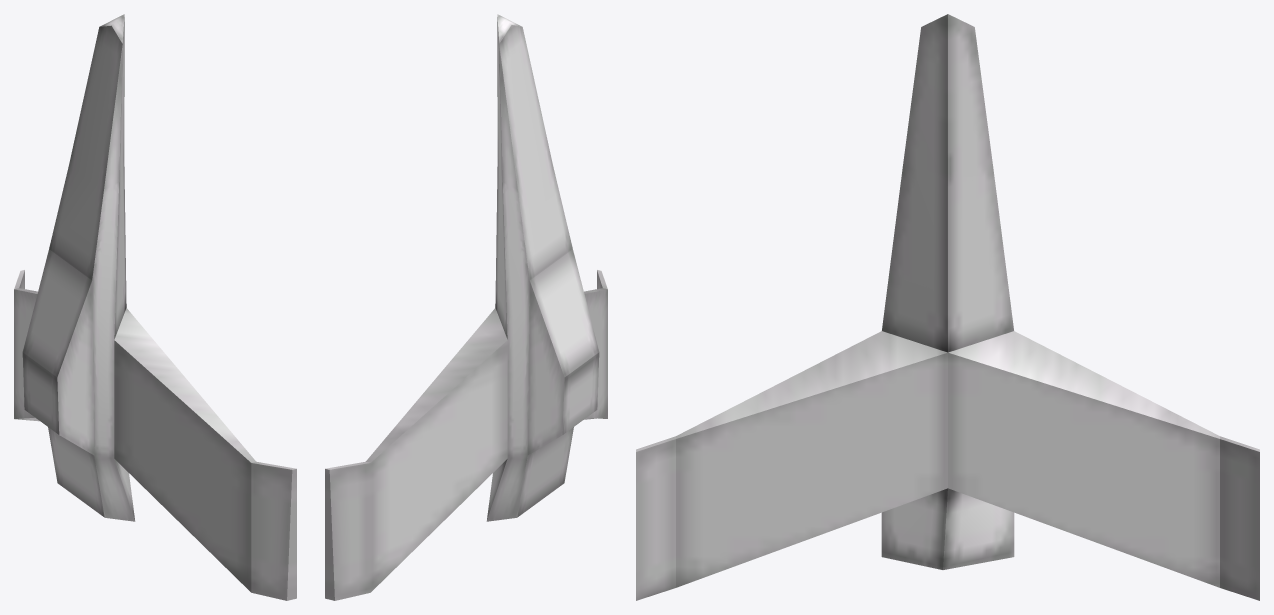
The model's file is ui_ship.fbx.
The picture shows the model from 3 angles, left to right: view 1: azimuth 30°, elevation 25°; view 2: azimuth 150°, elevation 25°; view 3: azimuth 270°, elevation 25°; orthographic projection. The views are drawn at different scales.
Visible parts, largest first — view 1: mesh_node; view 2: mesh_node; view 3: mesh_node.
Boxes of the visible parts, left/top/right/bottom form: mesh_node: left=14, top=14, right=296, bottom=600; mesh_node: left=325, top=14, right=607, bottom=600; mesh_node: left=636, top=14, right=1259, bottom=600.
Bounding box in the file's own units: 0.4714 × 1.84 × 1.84.
1 material, 1 textured.
